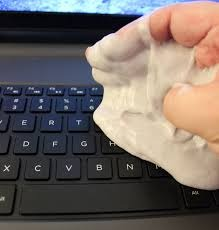keyboard: (0, 82, 94, 225)
